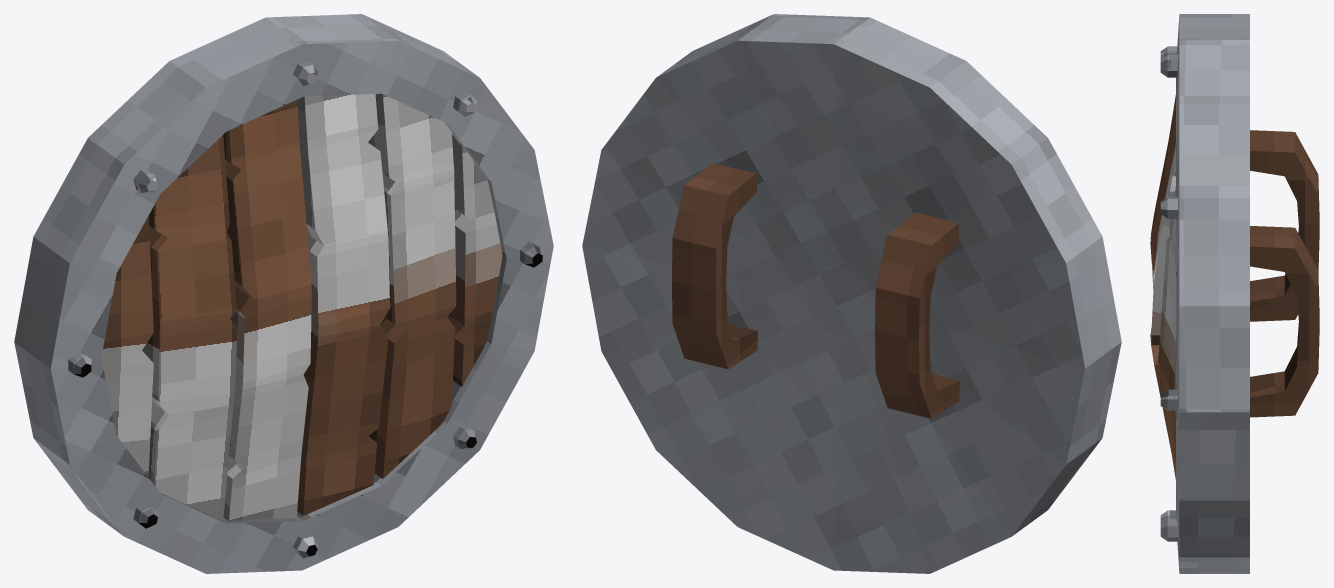
File: shield_round_2.glb
The picture shows the model from 3 angles, left to right: view 1: azimuth 30°, elevation 25°; view 2: azimuth 150°, elevation 25°; view 3: azimuth 270°, elevation 25°; orthographic projection. The views are drawn at different scales.
Visible parts, largest first — view 1: Shield_Round_2; view 2: Shield_Round_2; view 3: Shield_Round_2.
Boxes of the visible parts, x1,y1,x2,y2 form: Shield_Round_2: [14, 14, 553, 573]; Shield_Round_2: [582, 14, 1121, 573]; Shield_Round_2: [1150, 14, 1319, 573].
Size of the model in its own units: 0.7 by 0.7 by 0.2113.
Materials: 1 (1 with a texture image).
